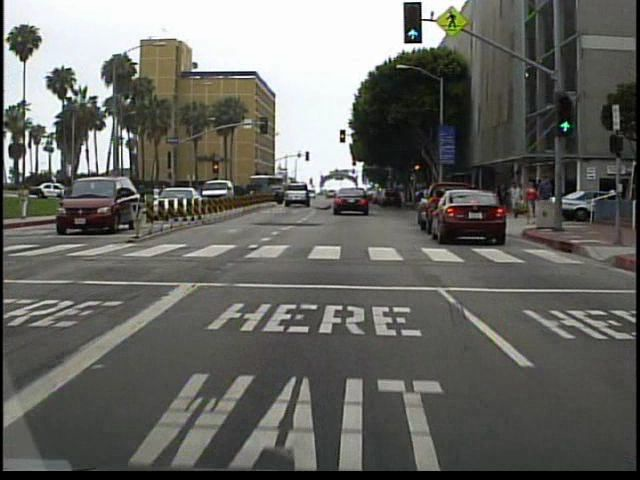person: (537, 174, 555, 224), (522, 182, 540, 224), (19, 181, 37, 220), (509, 179, 524, 222)
